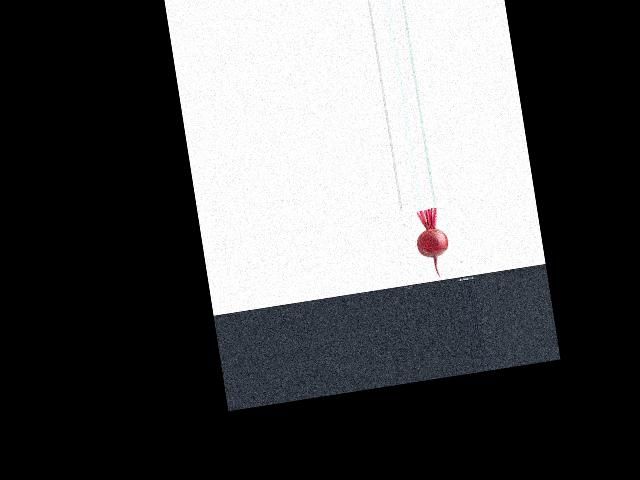beet: (411, 206, 453, 281)
